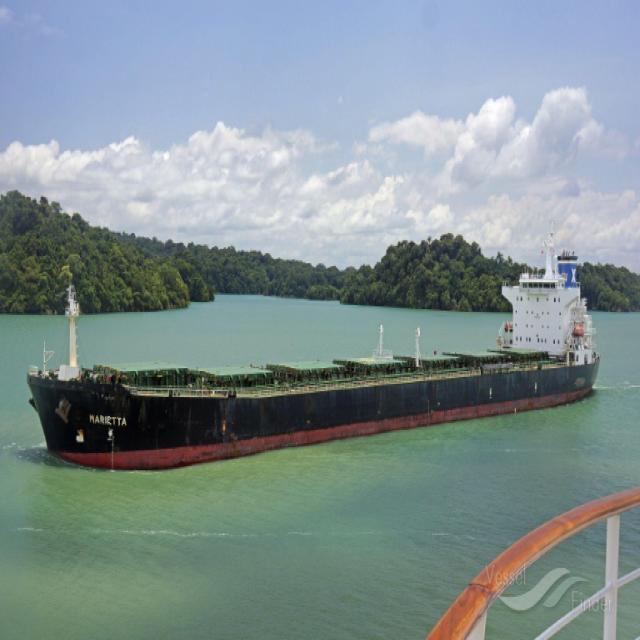OCR: (80, 406, 132, 432)
